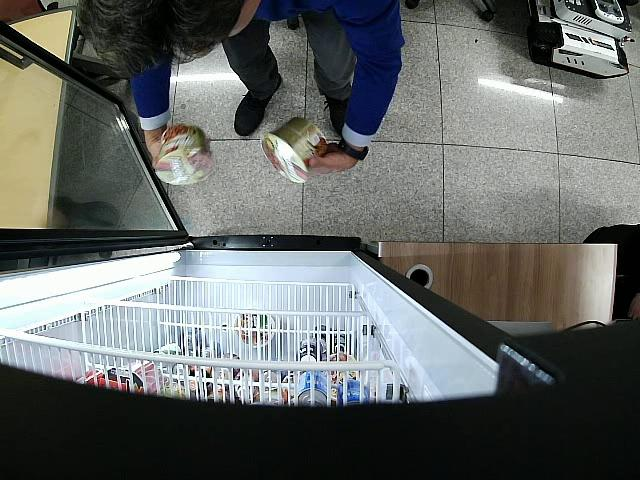00_hand: (145, 135, 211, 165), (309, 143, 357, 175)
03_chapagetti_L: (262, 118, 330, 183), (155, 124, 215, 185)
